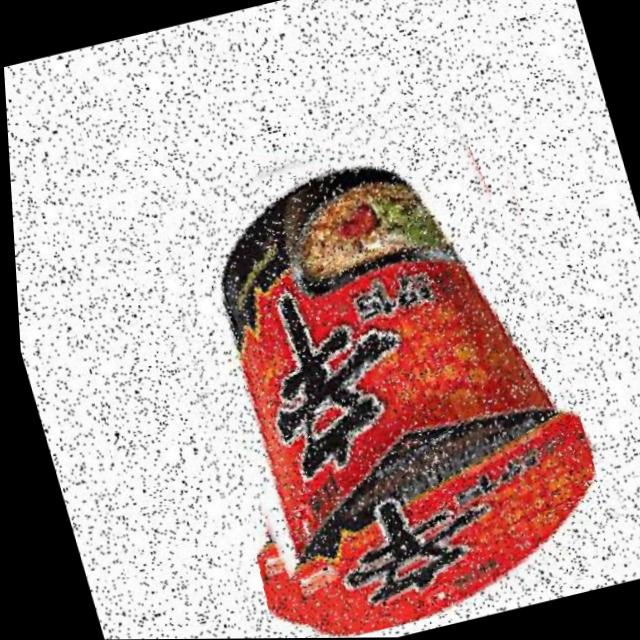Miscellaneous: (110, 92, 618, 640)
